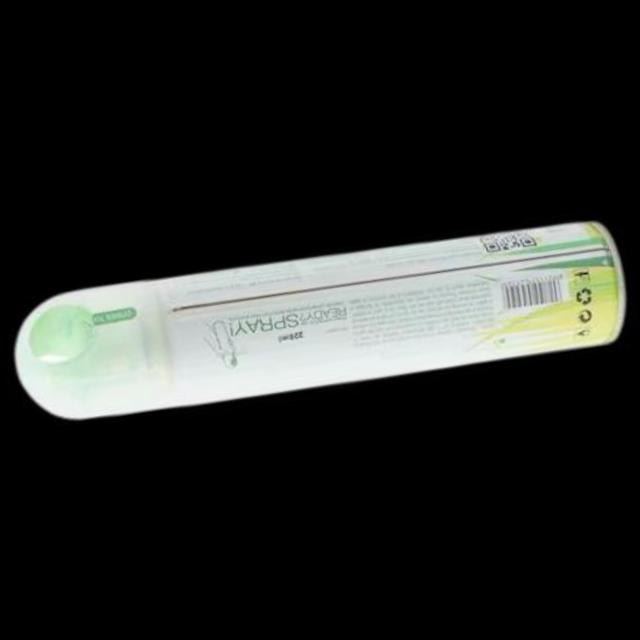Godrej Aer Lush Green Fresh Home Fragrance Spray 220 ml: (3, 206, 630, 431)
